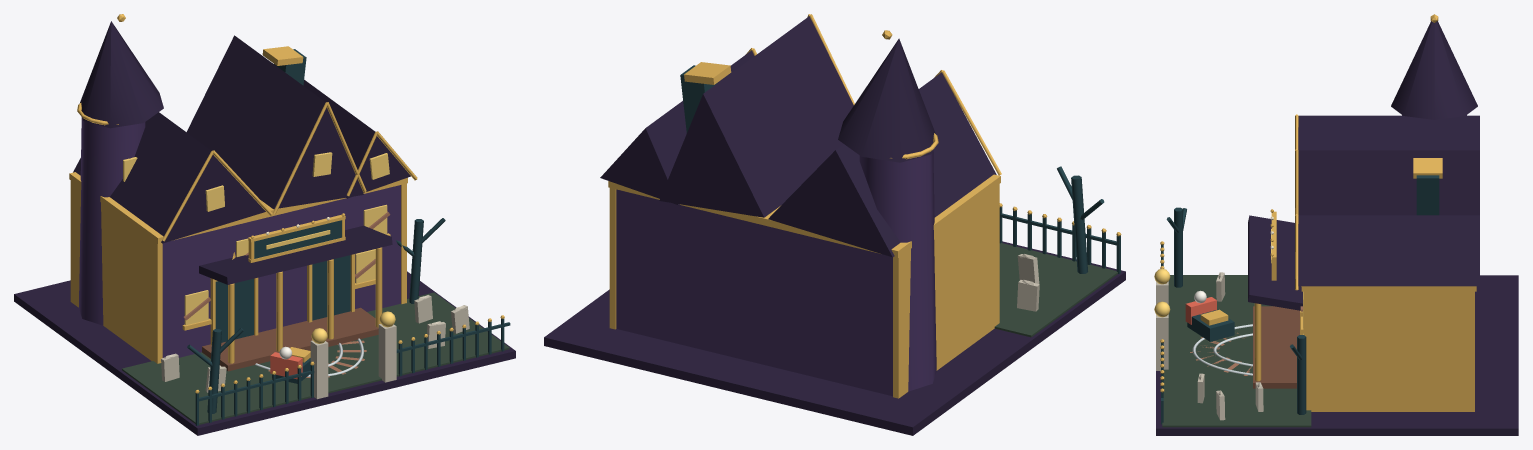
File: ride_haunted.glb
The picture shows the model from 3 angles, left to right: view 1: azimuth 30°, elevation 25°; view 2: azimuth 150°, elevation 25°; view 3: azimuth 270°, elevation 25°; orthographic projection. The views are drawn at different scales.
Parts seen in each view (by area): view 1: ride_haunted; view 2: ride_haunted; view 3: ride_haunted.
Boxes of the visible parts, left/top/right/bottom form: ride_haunted: left=14, top=14, right=515, bottom=435; ride_haunted: left=544, top=14, right=1125, bottom=435; ride_haunted: left=1154, top=14, right=1518, bottom=435.
Size of the model in its own units: 11.2 by 10.17 by 11.25.
